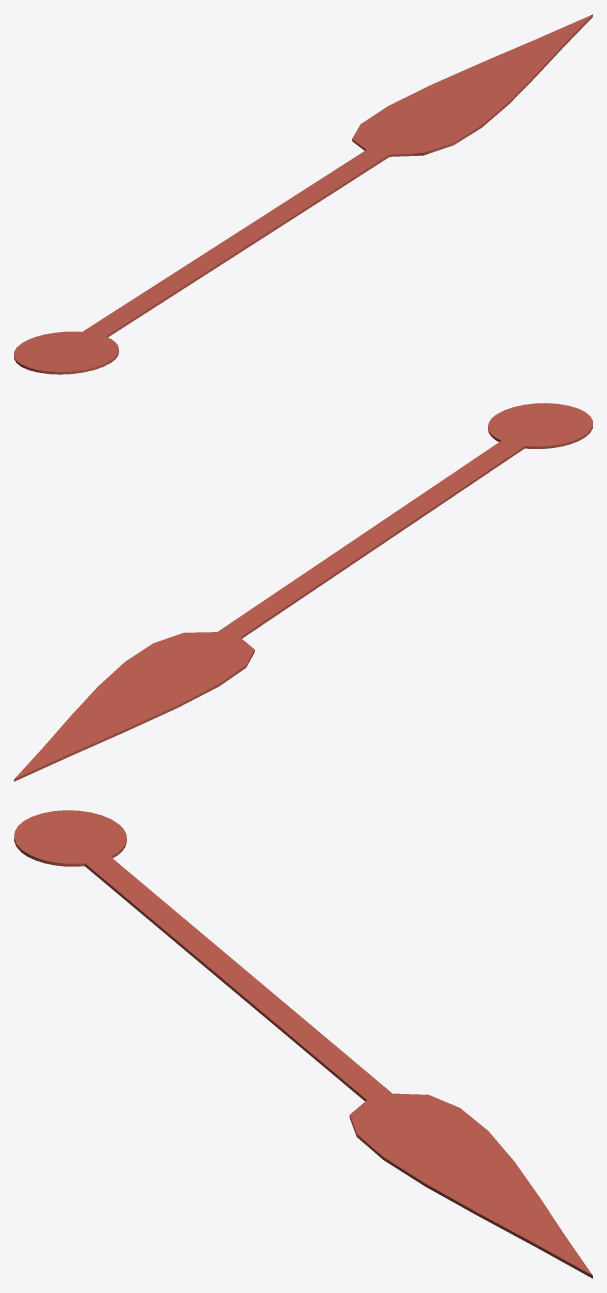
Rendered from hora.obj.
3 renders of one model, top to bottom at view 1: azimuth 30°, elevation 25°; view 2: azimuth 210°, elevation 25°; view 3: azimuth 270°, elevation 25°, orthographic. The views are drawn at different scales.
Parts seen in each view (by area): view 1: arms initialShadingGroup1 polySurface2 polySurface1; view 2: arms initialShadingGroup1 polySurface2 polySurface1; view 3: arms initialShadingGroup1 polySurface2 polySurface1.
Part boxes in pixels (x1=…): arms initialShadingGroup1 polySurface2 polySurface1: x1=14, y1=14, x2=592, y2=374; arms initialShadingGroup1 polySurface2 polySurface1: x1=14, y1=403, x2=592, y2=781; arms initialShadingGroup1 polySurface2 polySurface1: x1=14, y1=810, x2=592, y2=1278.
Size of the model in its own units: 8.14 by 0.1175 by 4.38.
1 material, 1 textured.
